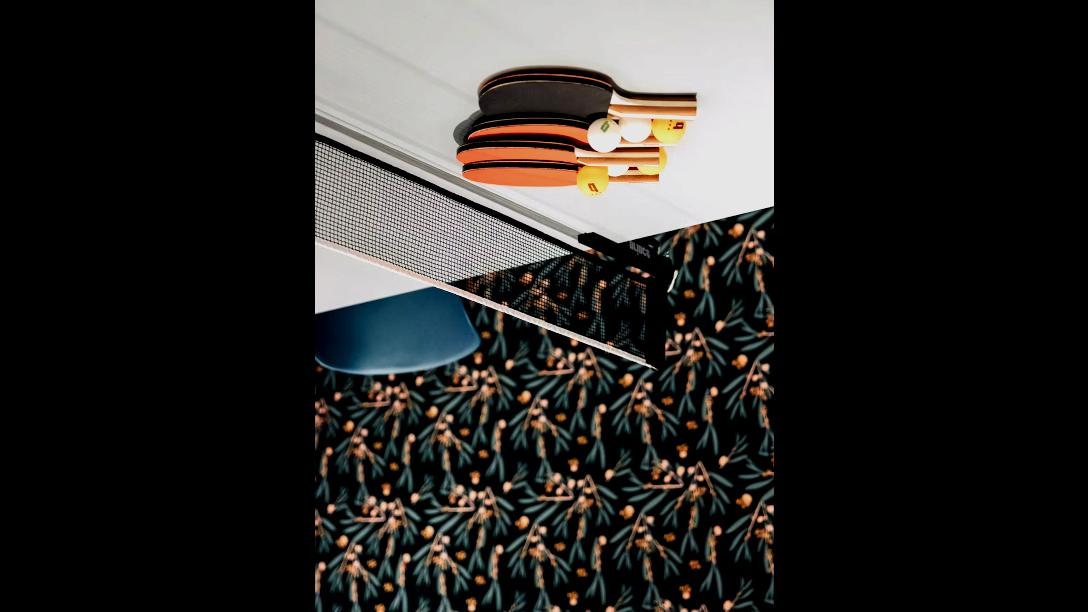Table-Tennis-Ball: (586, 119, 620, 153), (576, 166, 608, 197), (636, 147, 666, 175), (651, 119, 685, 143), (620, 118, 650, 142), (606, 166, 630, 177)
